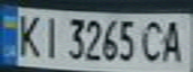2: (81, 16, 103, 62)
3: (63, 15, 84, 61)
5: (118, 17, 139, 64)
6: (100, 17, 124, 63)
A: (157, 17, 190, 64)
C: (139, 17, 169, 64)
I: (36, 12, 63, 60)
K: (12, 10, 45, 58)
